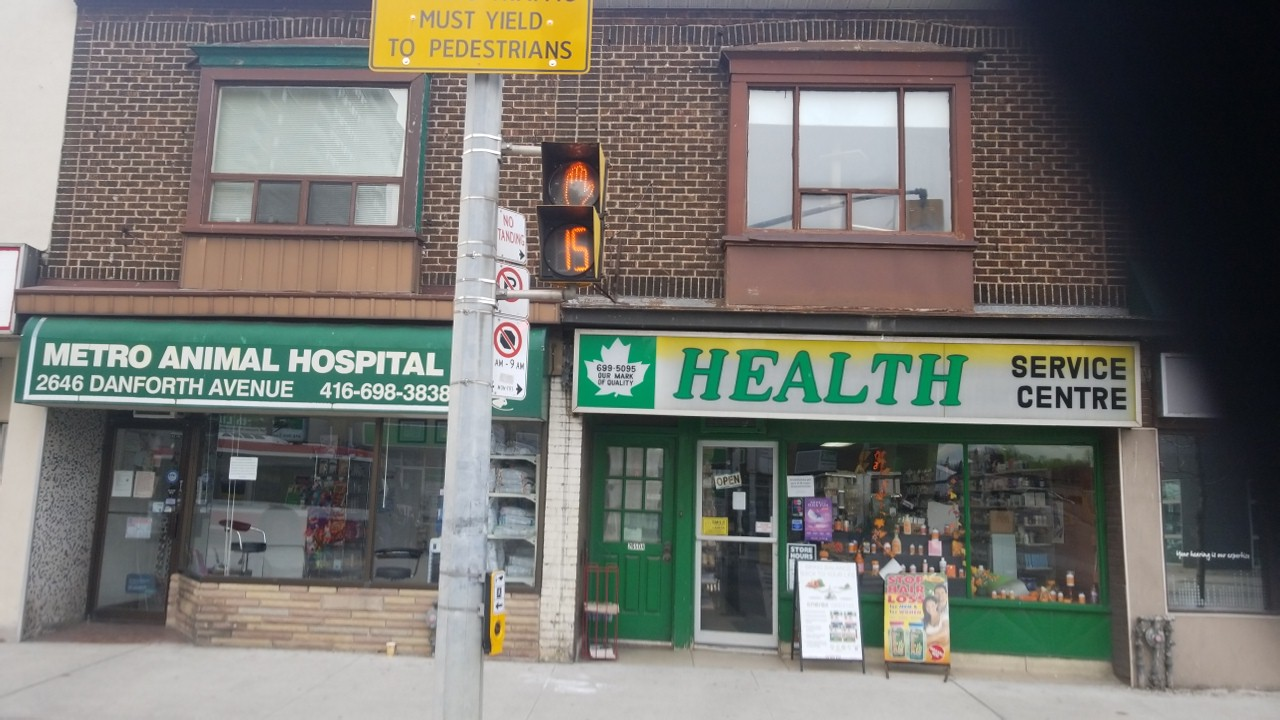light: (533, 138, 614, 285)
